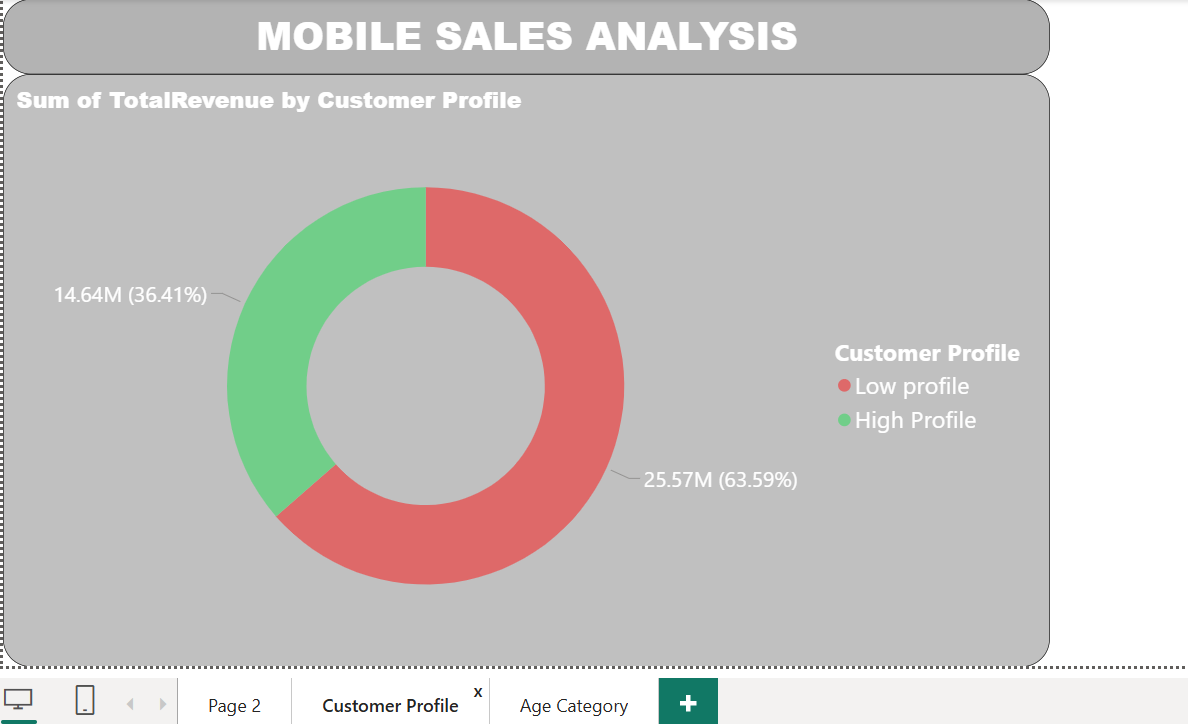

Layout of this report page (visuals, bound fields, positions):
{"tool":"powerbi","page":{"name":"Customer Profile","canvas":[1280,720],"ordinal":1},"visuals":[{"type":"donutChart","fields":{"Category":["mobile_sales.Customer Profile"],"Y":["Sum(mobile_sales.TotalRevenue)"]},"box":[0,81,1130.1,640],"z":0},{"type":"textbox","title":"MOBILE SALES ANALYSIS","box":[0,0,1130.1,81],"z":1000}]}

Visuals, with their boxes on the page's 1280x720 design canvas (x1, y1, x2, y2). These are canvas units, not pixel positions in the 1188x724 screenshot, which may show the page scaled, cropped or inside an application window:
donutChart - mobile_sales.Customer Profile x Sum(mobile_sales.TotalRevenue): 0 81 1130 721
"MOBILE SALES ANALYSIS" textbox: 0 0 1130 81
